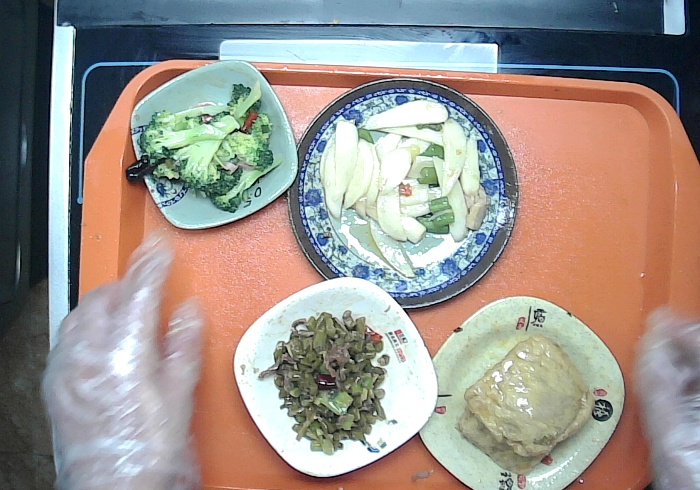NLDX-Bai_Se_Xiao_Fang_Die: (226, 272, 442, 485)
NLDX-Fu_Zi_Fang_Die: (412, 290, 629, 488)
NLDX-Qing_Hua_Xiao_Fang_Die: (123, 56, 302, 235)
NLDX-Qing_Hua_Yuan_Die: (283, 74, 524, 312)
